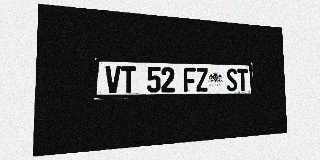2: (161, 67, 175, 92)
5: (147, 67, 161, 92)
F: (183, 67, 196, 92)
S: (226, 68, 237, 91)
T: (121, 66, 136, 93), (237, 68, 248, 91)
V: (105, 66, 121, 93)
Z: (196, 68, 208, 92)
